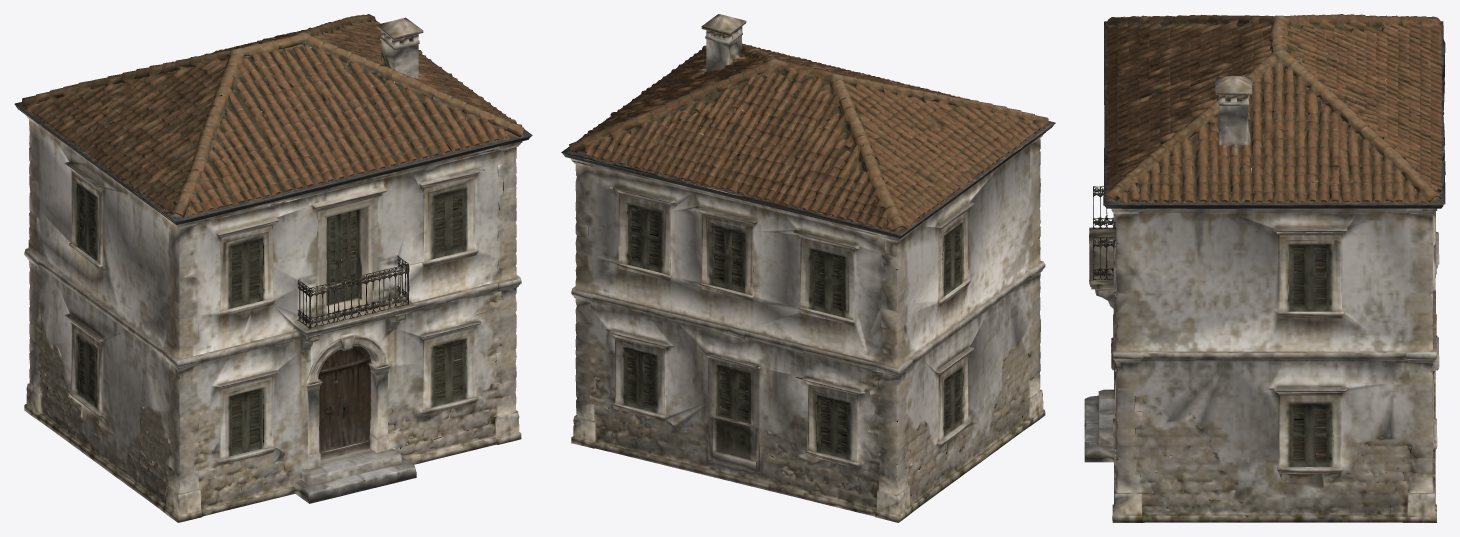
Rendered from harbormaster-house.glb.
The picture shows the model from 3 angles, left to right: view 1: azimuth 30°, elevation 25°; view 2: azimuth 150°, elevation 25°; view 3: azimuth 270°, elevation 25°; orthographic projection. The views are drawn at different scales.
Visible parts, largest first — view 1: House_LOD0; view 2: House_LOD0; view 3: House_LOD0.
Part boxes in pixels (<box>): House_LOD0: <box>14,14,532,522</box>; House_LOD0: <box>561,14,1055,522</box>; House_LOD0: <box>1084,14,1445,522</box>.
Size of what is drawn, in the model's own units: 8 by 8.44 by 6.66.
1 material, 1 textured.
